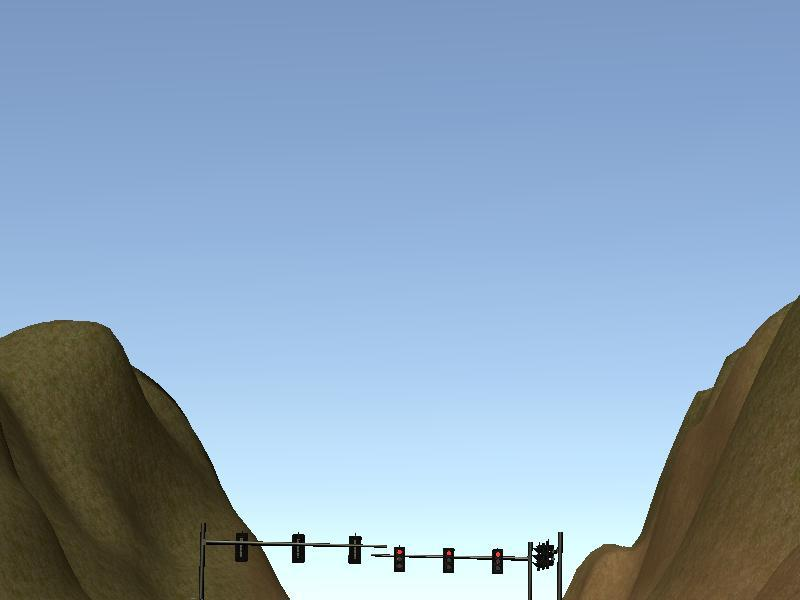Red: (392, 545, 404, 572), (491, 547, 502, 575), (443, 548, 454, 574)
